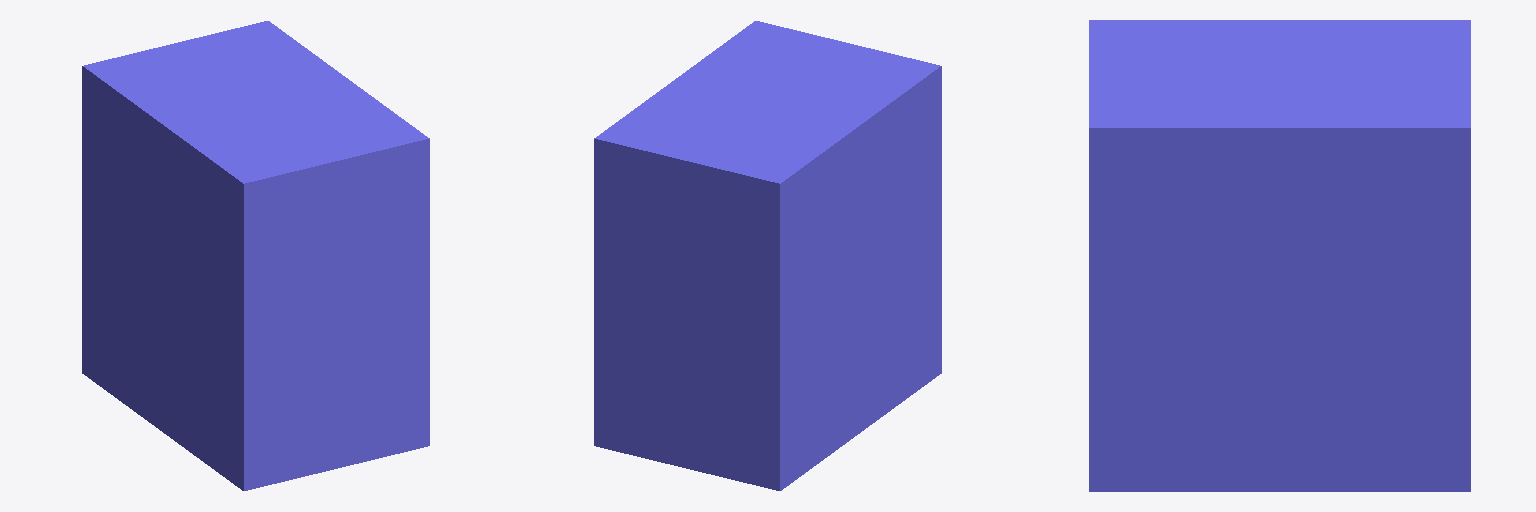
The robot description file, URDF, robot "sup_slipsheets":
<?xml version="1.0" encoding="utf-8"?>
<!-- This URDF was automatically created by SolidWorks to URDF Exporter! Originally created by [author] ([email redacted]) 
     Commit Version: 1.5.1-0-g916b5db  Build Version: 1.5.7152.31018
     For more information, please see http://wiki.ros.org/sw_urdf_exporter -->
<robot name="sup_slipsheets">

	<link name="world" />

	<joint name="fixed1" type="fixed">
		<parent link="world"/>
		<child link="sup_slipsheet"/>
		<origin xyz="0.67 0.0 0.0" rpy="0.0 0.0 0.0"/>
	</joint>

	<link name="sup_slipsheet">
		<inertial>
			<origin xyz="0.30 0.20 0.30" rpy="0 0 0" />
			<mass value="40" />
			<inertia ixx="7.5972" ixy="0" ixz="0" iyy="0.99673" iyz="0" izz="8.1168" />
		</inertial>
		<visual>
			<origin xyz="0.0 0.0 0.0" rpy="0 0 0" />
			<geometry>
				<mesh filename="package://demo_world/meshes/sup_slipsheet.stl" />
			</geometry>
			<material name="white">
				<color rgba="0.5 0.5 1 1" />
			</material>
		</visual>
		<collision>
          <origin xyz="0.0 0.0 0.0" rpy="0.0 0.0 0.0"/>
          <geometry>
             <mesh filename="package://demo_world/meshes/sup_slipsheet.stl" />
          </geometry>
        </collision>
	</link>

</robot>

--- What the picture shows (computed from the rendered views, not written in the file) ---
3 views of the same robot in one strip: view 1: azimuth 30°, elevation 25°; view 2: azimuth 150°, elevation 25°; view 3: azimuth 270°, elevation 25° (orthographic).
Robot: sup_slipsheets — 2 links, 1 joints (1 fixed); root link world; default pose: all joints at 0.
Visible links, largest first — view 1: sup_slipsheet; view 2: sup_slipsheet; view 3: sup_slipsheet.
Boxes of the visible links, x1,y1,x2,y2 form: sup_slipsheet: (82,21,429,490); sup_slipsheet: (594,21,941,490); sup_slipsheet: (1089,20,1470,491).
Size in the robot's own frame: 0.4032 by 0.6059 by 0.6376 metres.
Meshes: 1 distinct files referenced, 1 mesh visuals loaded (1 binary STL).